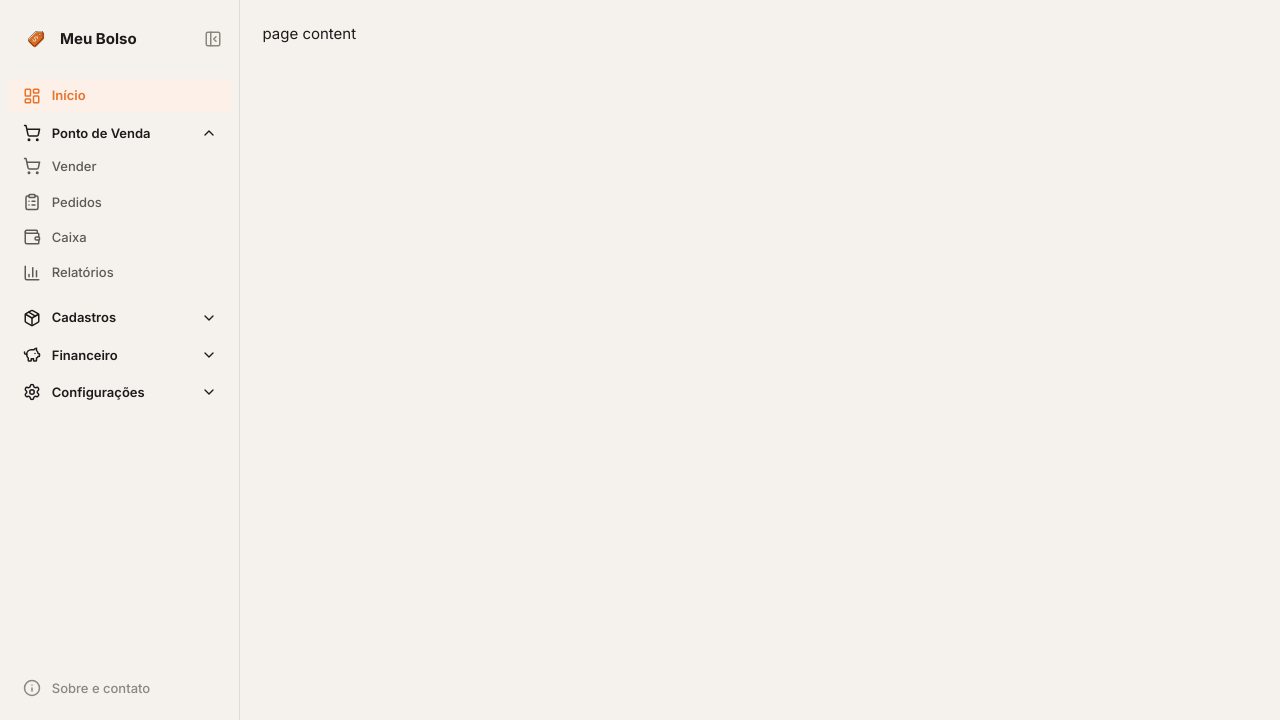
Test: AppShell sidebar › opens the contact modal from the sidebar footer
Click the button "Sobre e contato".
click(120, 688)  # box [8,671,232,705]
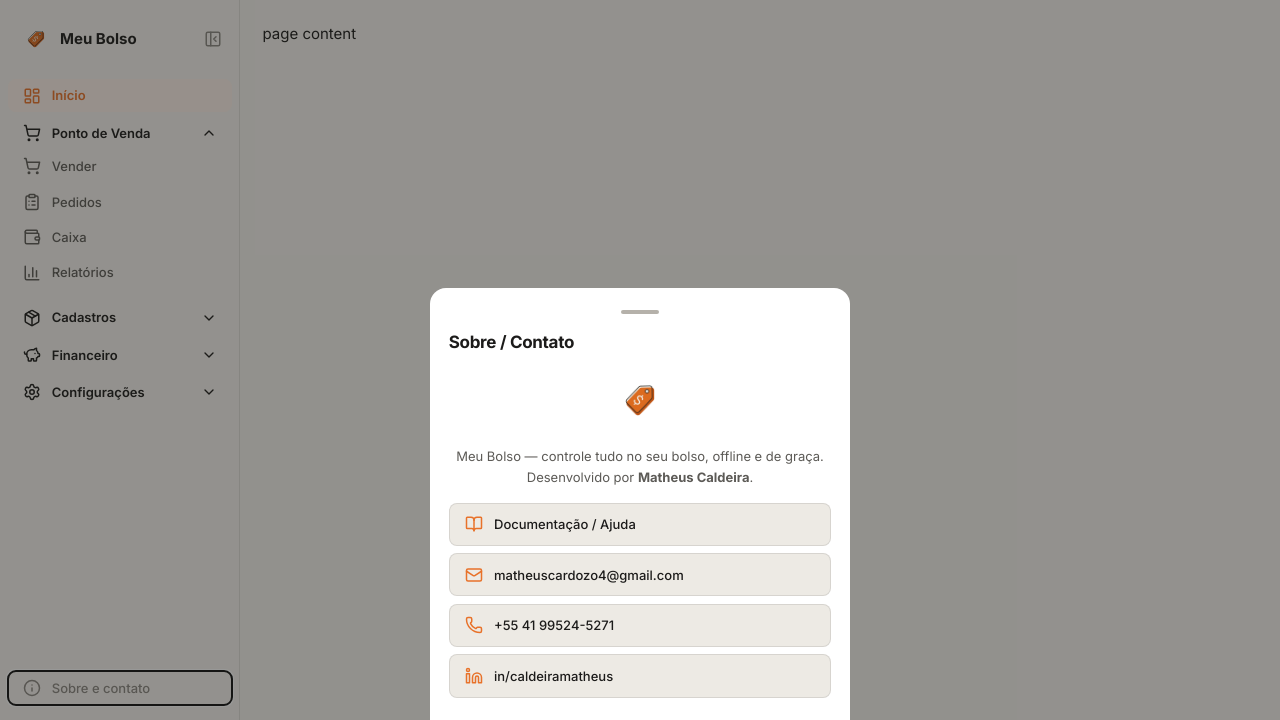
Check: the dialog "Sobre / Contato" is shown, box [430,288,850,719]
